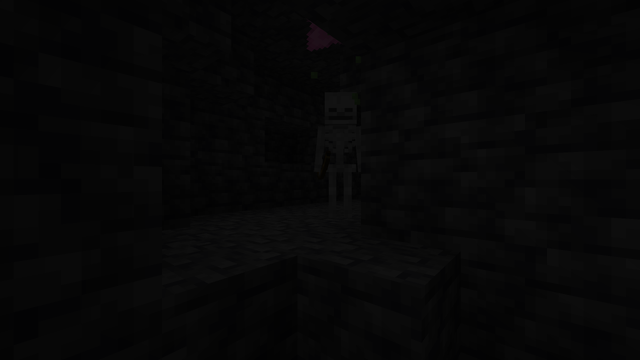squelettes: (314, 88, 359, 220)
